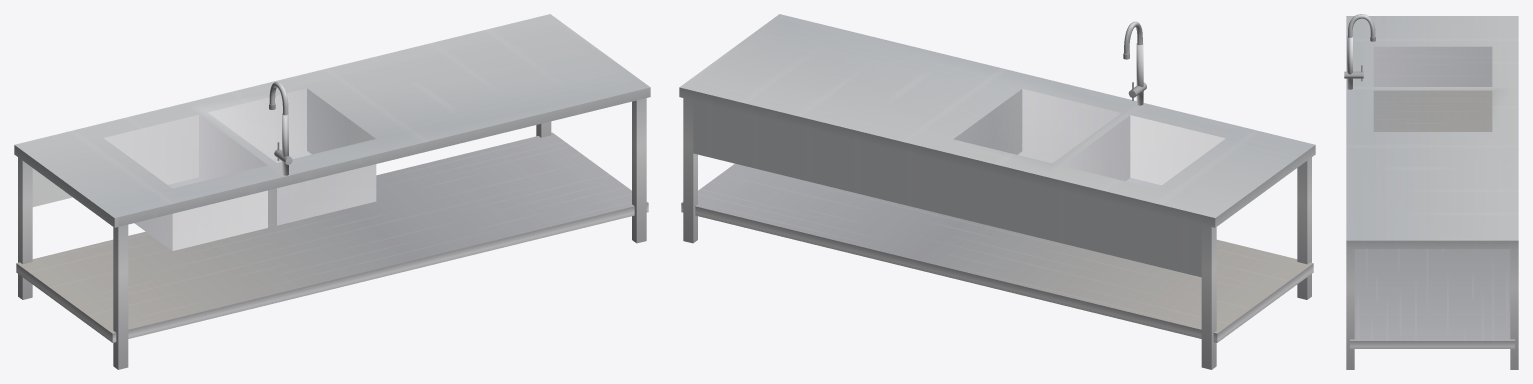
File: tarja.fbx
3 renders of one model, left to right at view 1: azimuth 30°, elevation 25°; view 2: azimuth 150°, elevation 25°; view 3: azimuth 270°, elevation 25°, orthographic. The views are drawn at different scales.
Parts seen in each view (by area): view 1: Cube.028, Cube.029, Cube.030; view 2: Cube.028, Cube.029, Cube.030; view 3: Cube.028, Cube.029, Cube.030, Cilindro, Curva Bezier.
Boxes of the visible parts, left/top/right/bottom form: Cube.028: left=14, top=14, right=650, bottom=250; Cube.029: left=16, top=132, right=648, bottom=342; Cube.030: left=18, top=98, right=646, bottom=369; Cube.028: left=679, top=14, right=1315, bottom=277; Cube.029: left=681, top=163, right=1313, bottom=342; Cube.030: left=683, top=98, right=1311, bottom=369; Cube.028: left=1346, top=16, right=1518, bottom=248; Cube.029: left=1350, top=249, right=1514, bottom=348; Cube.030: left=1346, top=249, right=1518, bottom=369; Cilindro: left=1347, top=36, right=1352, bottom=89; Curva Bezier: left=1348, top=14, right=1375, bottom=37.
Bounding box in the file's own units: 280 × 119 × 91.79.
1 material, 1 textured.
